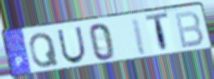0: (88, 22, 116, 62)
B: (173, 10, 206, 50)
I: (130, 17, 148, 58)
Q: (28, 32, 61, 70)
T: (144, 11, 170, 55)
U: (56, 25, 88, 65)
